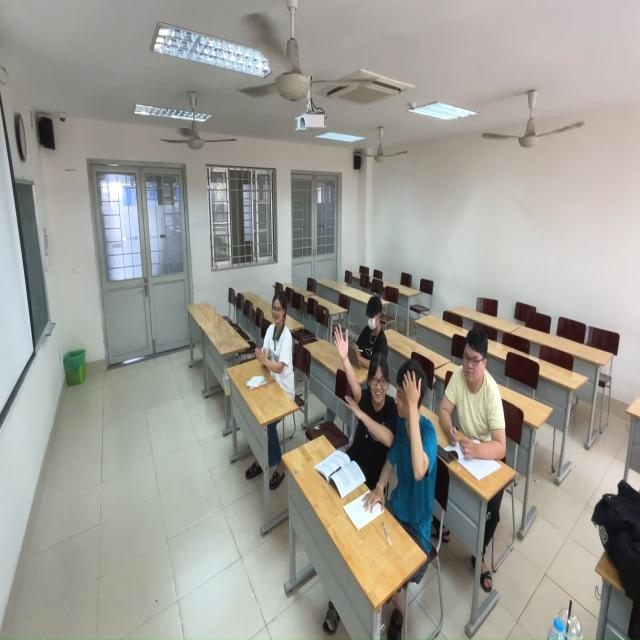raise_hand: (337, 328, 395, 489)
read: (374, 361, 439, 537), (441, 312, 507, 475), (256, 292, 297, 389), (352, 287, 390, 377)
